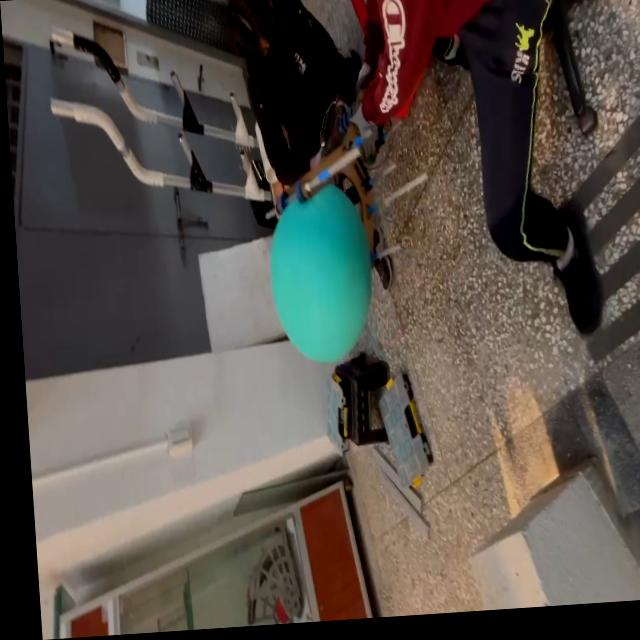ALGAE: (264, 179, 380, 368)
